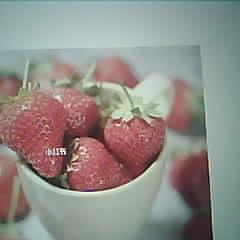straw-ripe: (1, 95, 67, 178), (104, 107, 165, 172), (70, 138, 128, 193)
